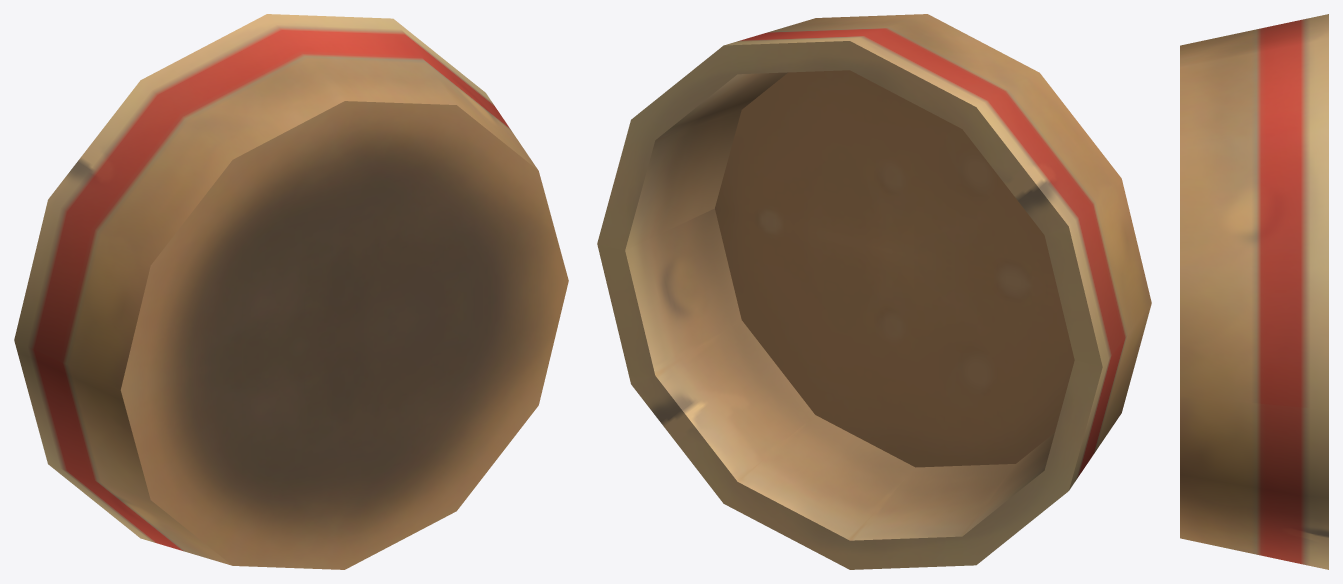
File: Food_plate_small.fbx
3 renders of one model, left to right at view 1: azimuth 30°, elevation 25°; view 2: azimuth 150°, elevation 25°; view 3: azimuth 270°, elevation 25°, orthographic. The views are drawn at different scales.
Visible parts, largest first — view 1: Food_plate_small; view 2: Food_plate_small; view 3: Food_plate_small.
Boxes of the visible parts, bbox=[...] form: Food_plate_small: bbox=[14, 14, 568, 569]; Food_plate_small: bbox=[597, 14, 1151, 569]; Food_plate_small: bbox=[1180, 14, 1328, 569].
Size of the model in its own units: 0.2402 by 0.2402 by 0.064.
